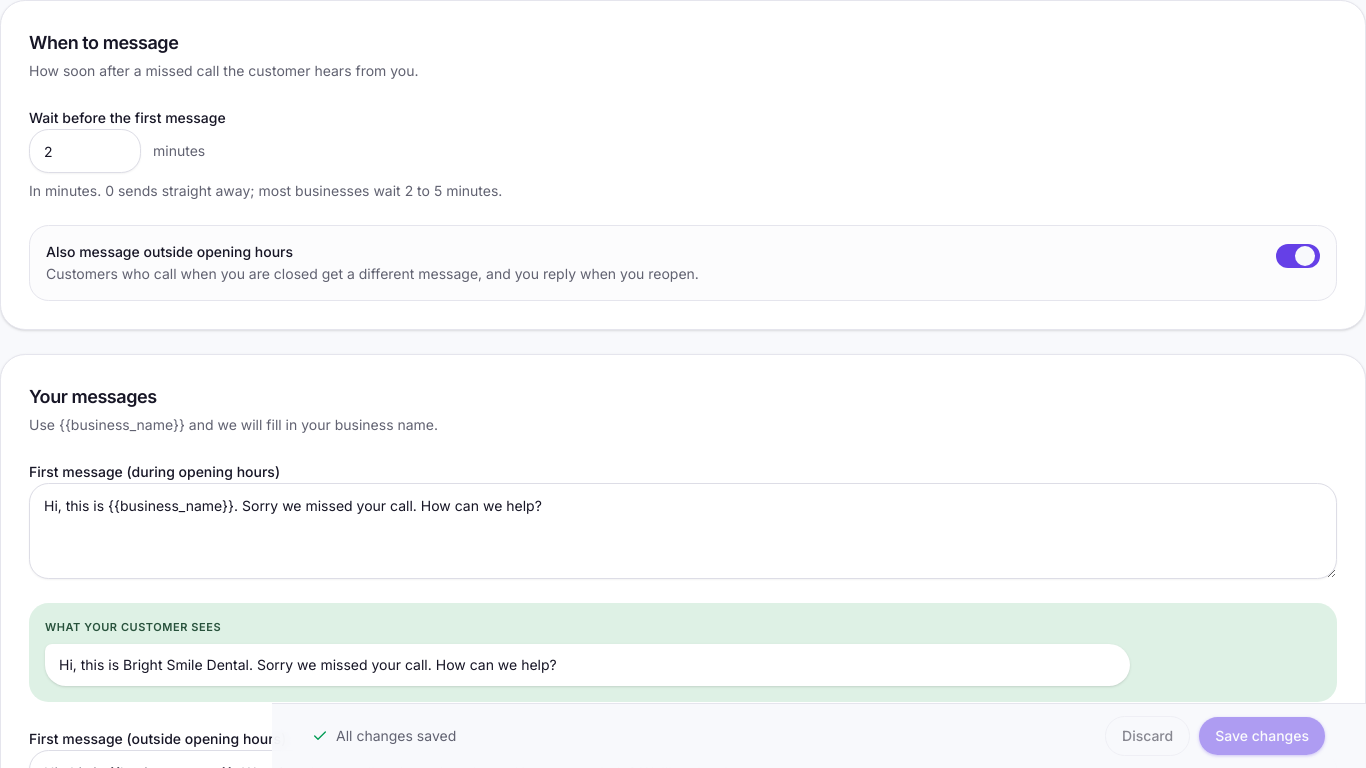
Test: MissedCallForm › shows the server's message next to the field it belongs to, and keeps the changes
Replace the text in the number field labelled "Wait before the first message" with "500". click: (85, 151)
box: [29,129,141,173]
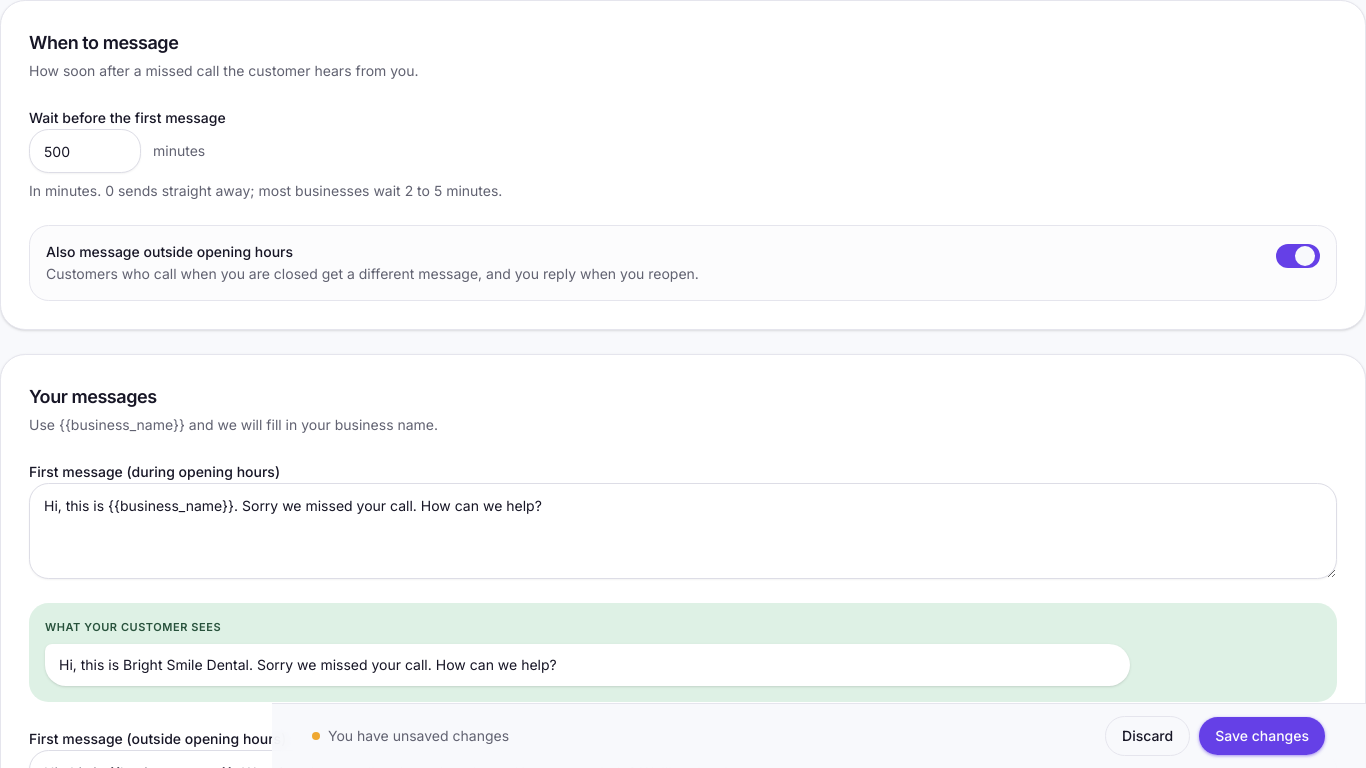
Click the button "Save changes". click: (1262, 736)
box: [1198,716,1326,756]
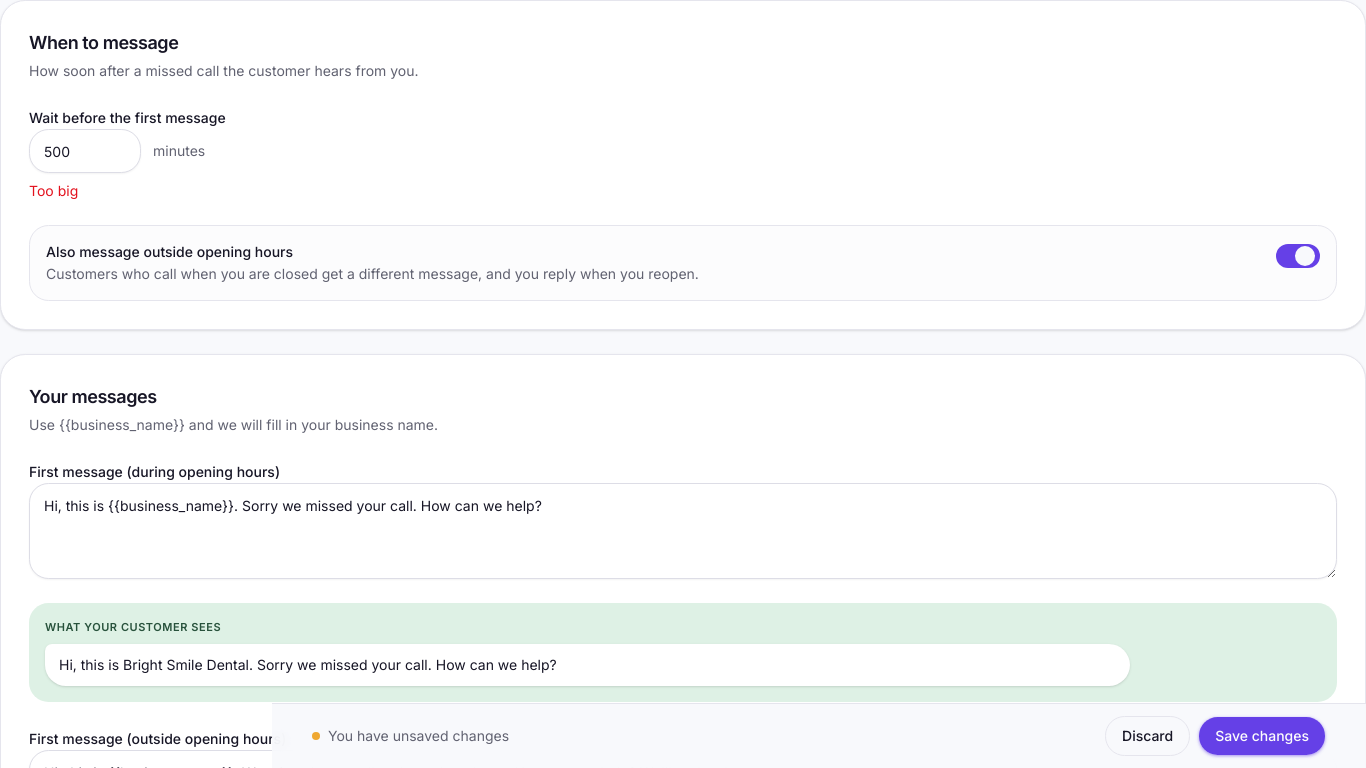
Result: the text "You have unsaved changes" is shown at [312,726,509,746]
Result: the text "Too big" is shown at [29,182,78,199]
